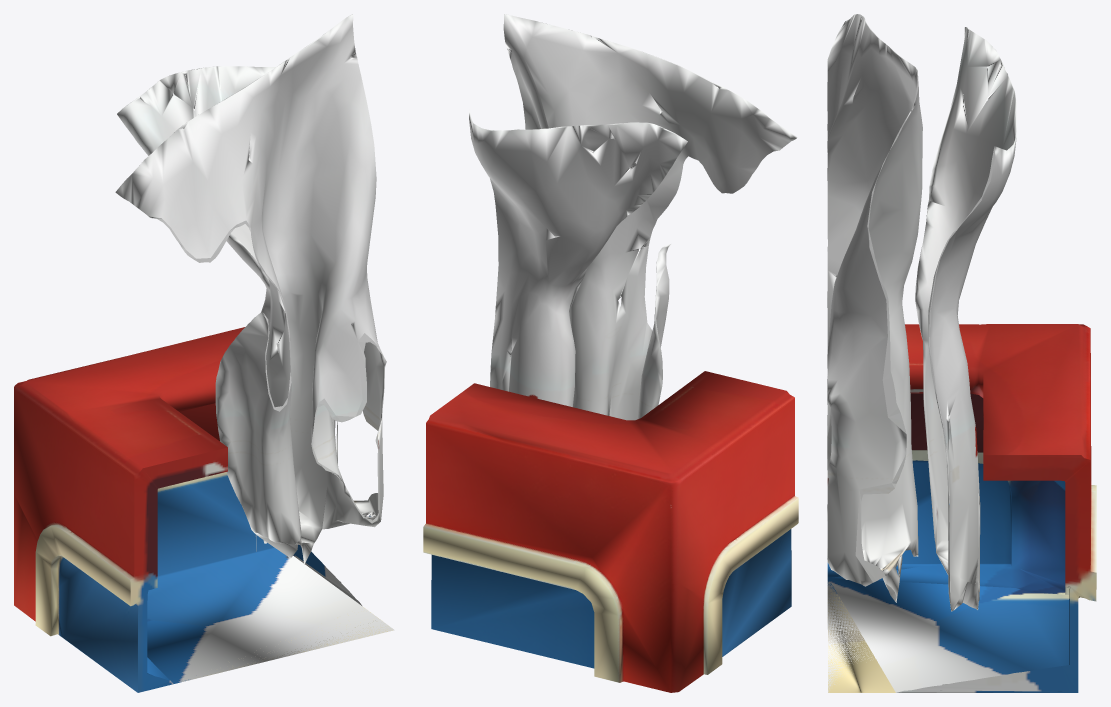
File: 15-topper-back-left.fbx
3 views of the same model, side by side, from view 1: azimuth 30°, elevation 25°; view 2: azimuth 150°, elevation 25°; view 3: azimuth 270°, elevation 25° (orthographic). The views are drawn at different scales.
Parts seen in each view (by area): view 1: topper-back-left; view 2: topper-back-left; view 3: topper-back-left.
Part boxes in pixels (x1,y1,x2,y2): topper-back-left: (14,14,394,692); topper-back-left: (423,14,798,692); topper-back-left: (827,14,1096,692).
Size of the model in its own units: 4804 by 9878 by 3875.
Materials: 1 (1 with a texture image).
